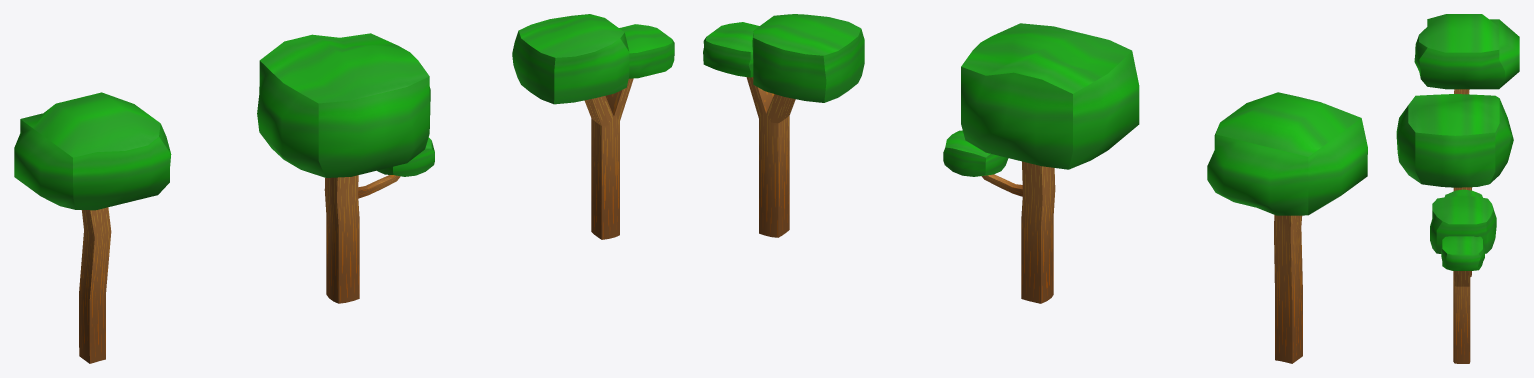
The model's file is 樹木v1.fbx.
3 views of the same model, side by side, from view 1: azimuth 30°, elevation 25°; view 2: azimuth 150°, elevation 25°; view 3: azimuth 270°, elevation 25° (orthographic). The views are drawn at different scales.
Visible parts, largest first — view 1: 樹2, 樹1, 樹3; view 2: 樹2, 樹1, 樹3; view 3: 樹2, 樹1, 樹3.
Part boxes in pixels (<box>): 樹2: <box>257,33,434,303</box>; 樹1: <box>14,92,171,363</box>; 樹3: <box>512,14,674,239</box>; 樹2: <box>943,23,1139,303</box>; 樹1: <box>1207,92,1367,363</box>; 樹3: <box>703,14,864,237</box>; 樹2: <box>1396,94,1513,276</box>; 樹1: <box>1414,14,1519,94</box>; 樹3: <box>1430,196,1496,363</box>.
Size of the model in its own units: 412 by 154 by 101.
3 materials, 3 textured.
